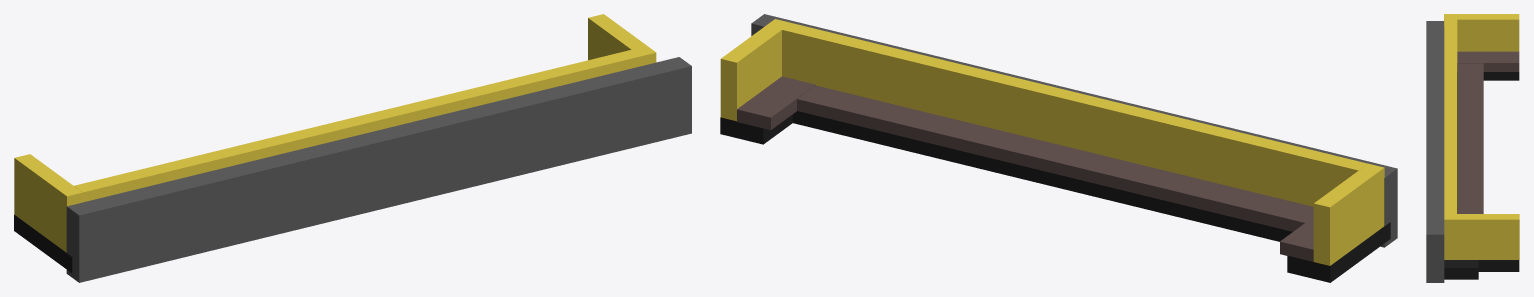
Rendered from booth.fbx.
The picture shows the model from 3 angles, left to right: view 1: azimuth 30°, elevation 25°; view 2: azimuth 150°, elevation 25°; view 3: azimuth 270°, elevation 25°; orthographic projection. The views are drawn at different scales.
Parts seen in each view (by area): view 1: Cube.161, Cube.166, Cube.241, Cube.162, Cube.243; view 2: Cube.166, Cube.167, Cube.168, Cube.241, Cube.162, Cube.161, Cube.163, Cube.243, Cube.164, Cube.242; view 3: Cube.161, Cube.167, Cube.162, Cube.166, Cube.241, Cube.242, Cube.168, Cube.164, Cube.243.
Boxes of the visible parts, x1,y1,x2,y2 form: Cube.161: (66,57,691,282); Cube.166: (74,49,643,202); Cube.241: (14,154,82,252); Cube.162: (588,14,656,66); Cube.243: (14,214,72,272); Cube.166: (779,22,1367,206); Cube.167: (797,85,1313,231); Cube.168: (792,111,1292,241); Cube.241: (1313,163,1384,265); Cube.162: (720,19,787,121); Cube.161: (751,14,1397,247); Cube.163: (737,76,815,129); Cube.243: (1287,222,1390,282); Cube.164: (720,114,792,144); Cube.242: (1280,217,1313,261); Cube.161: (1426,21,1444,282); Cube.167: (1458,63,1483,213); Cube.162: (1444,214,1519,259); Cube.166: (1444,19,1457,215); Cube.241: (1444,14,1519,51); Cube.242: (1457,51,1519,71); Cube.168: (1444,71,1478,279); Cube.164: (1447,260,1519,271); Cube.243: (1483,72,1519,80).
Size of the model in its own units: 16097 by 1943 by 2970.
